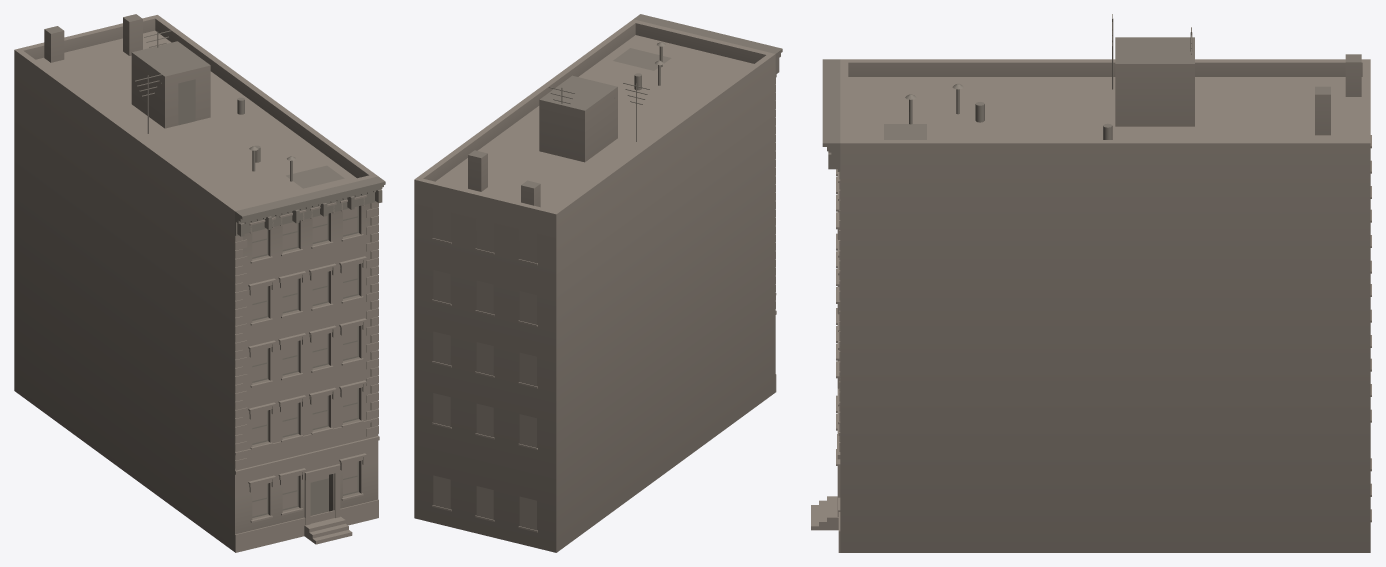
Rendered from rowhouse_d.glb.
3 views of the same model, side by side, from view 1: azimuth 30°, elevation 25°; view 2: azimuth 150°, elevation 25°; view 3: azimuth 270°, elevation 25° (orthographic). The views are drawn at different scales.
Visible parts, largest first — view 1: rowhouse_d; view 2: rowhouse_d; view 3: rowhouse_d.
Boxes of the visible parts, left/top/right/bottom form: rowhouse_d: left=14, top=14, right=385, bottom=552; rowhouse_d: left=414, top=14, right=782, bottom=552; rowhouse_d: left=811, top=14, right=1371, bottom=552.
Bounding box in the file's own units: 7.5 × 19.85 × 21.15.
